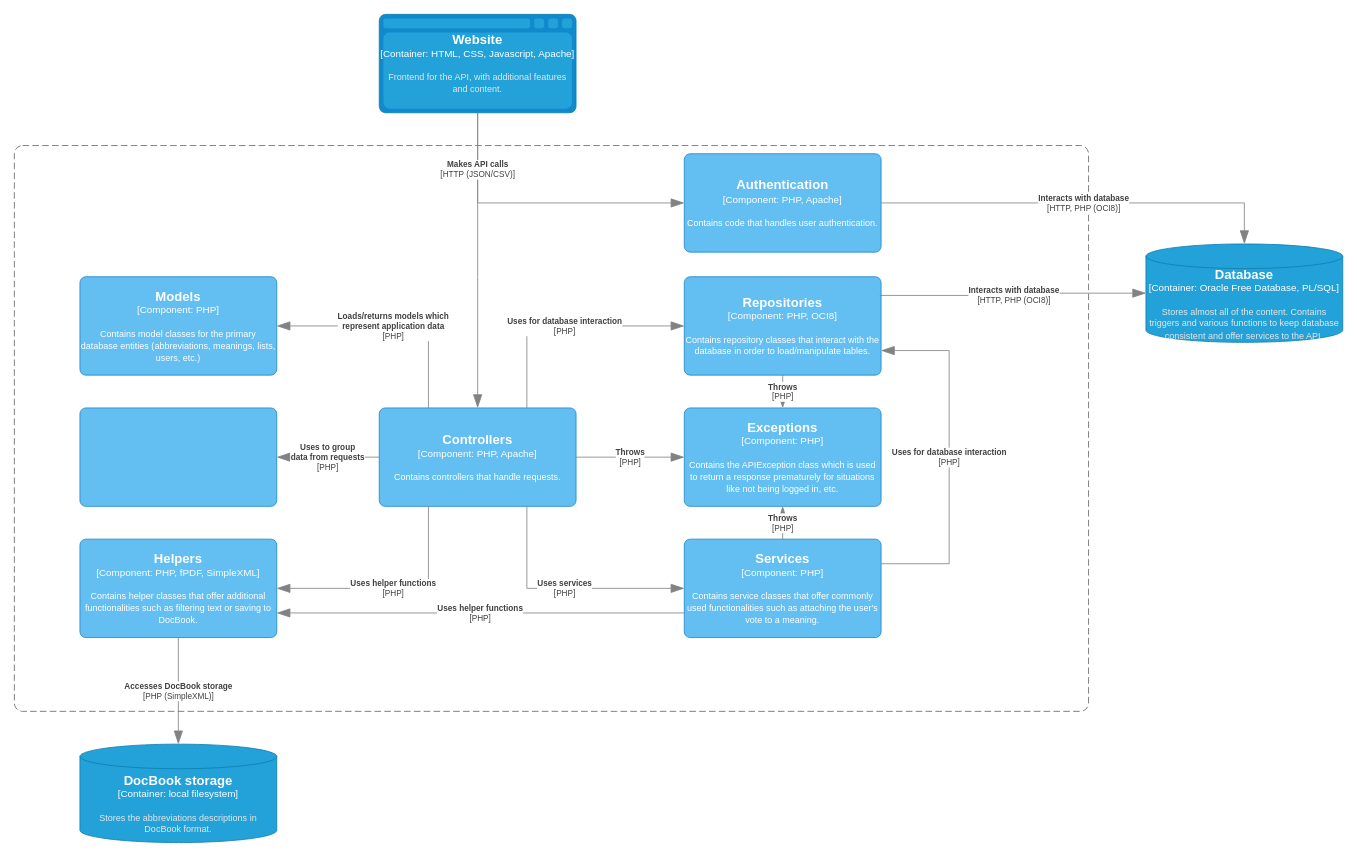
Some shapes in this 1357 by 857 pixel diagram are drawn without their labels. Each missing label, with the box of its shape:
API service [Container]: (14, 145, 1089, 711)
DTOs [Component: PHP] Contains DTO classes for receiving data from clients.: (79, 407, 277, 506)
